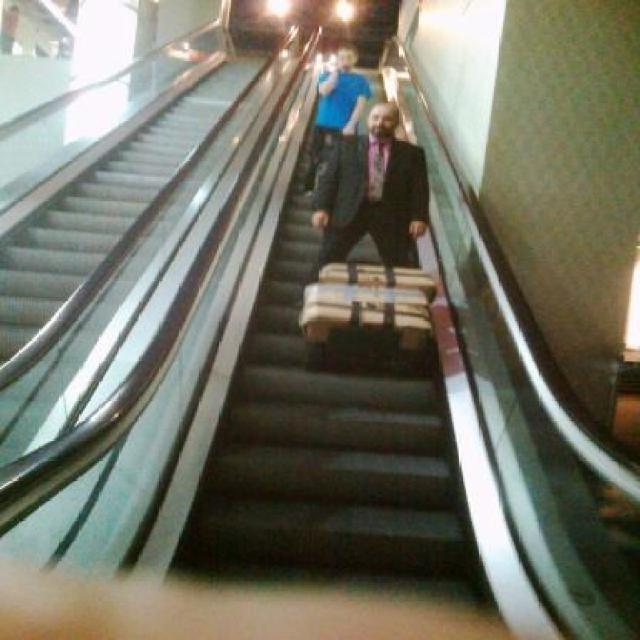stair: (170, 71, 518, 640), (1, 57, 284, 472)
